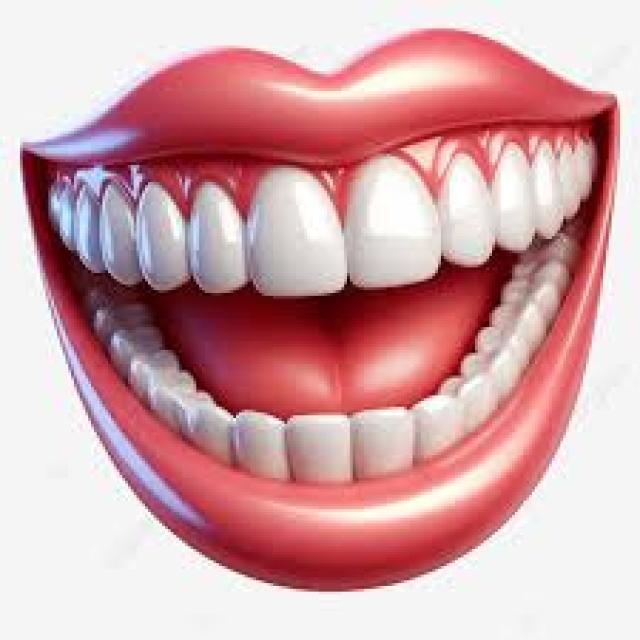tooth: (250, 162, 344, 293), (361, 159, 438, 279), (190, 188, 242, 296), (136, 182, 185, 296), (438, 156, 492, 259), (353, 406, 404, 484), (498, 148, 532, 250), (299, 418, 341, 481), (236, 415, 279, 472), (447, 378, 495, 424), (108, 188, 131, 278), (475, 344, 523, 387), (540, 139, 560, 242), (554, 145, 578, 222), (80, 182, 100, 270), (421, 393, 449, 455), (190, 406, 224, 446), (578, 148, 600, 199), (60, 190, 74, 248), (46, 188, 62, 236)
